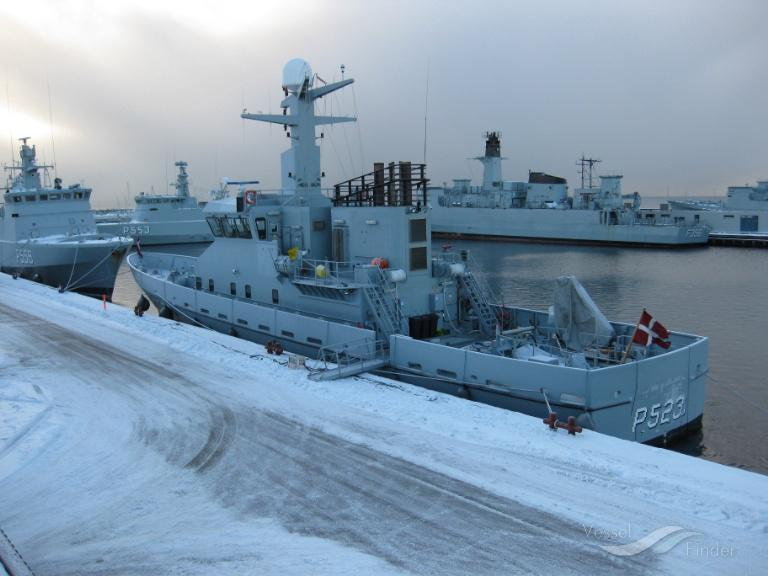OCR: (631, 388, 688, 432)
